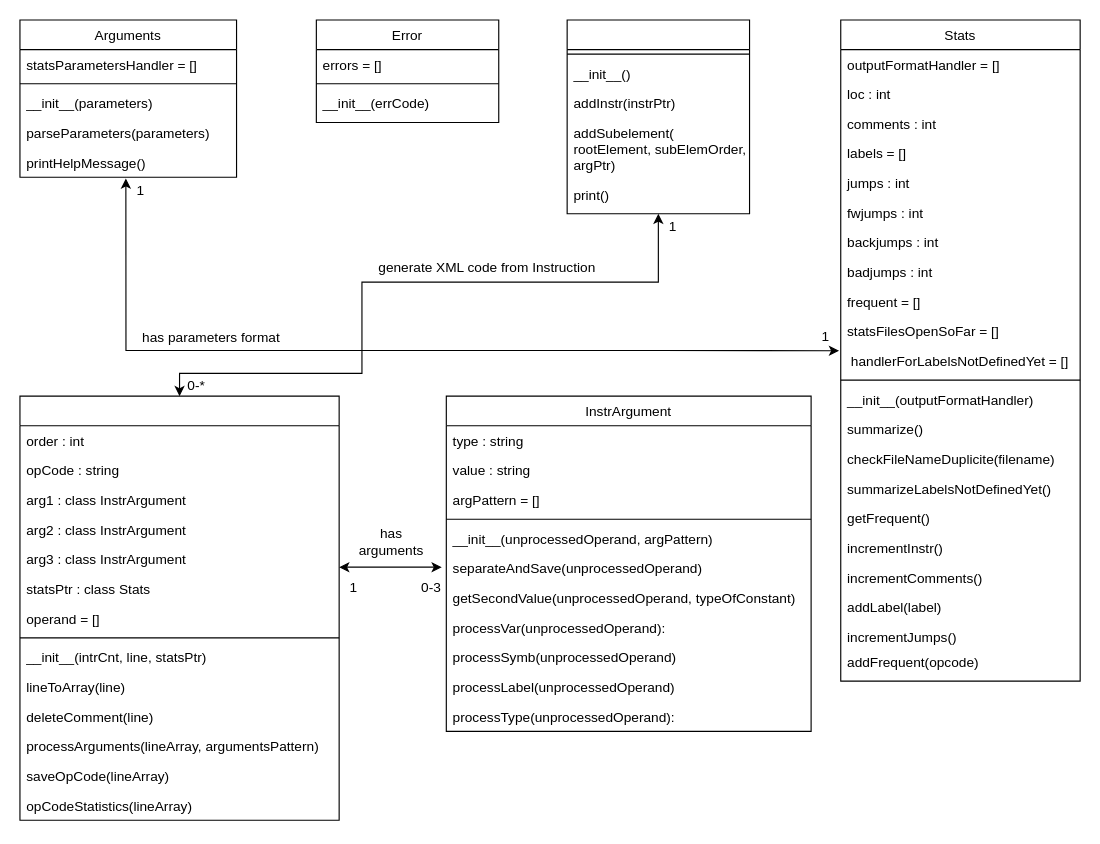
This 1100x844 diagram has some shape labels left out. The shapes that lost their labels are listed below. From the top down, each one's box as (x1, y1, x2, y2) in pixels, then its label:
(566, 19, 750, 214): XMLGenerator
(19, 395, 339, 820): Instruction
